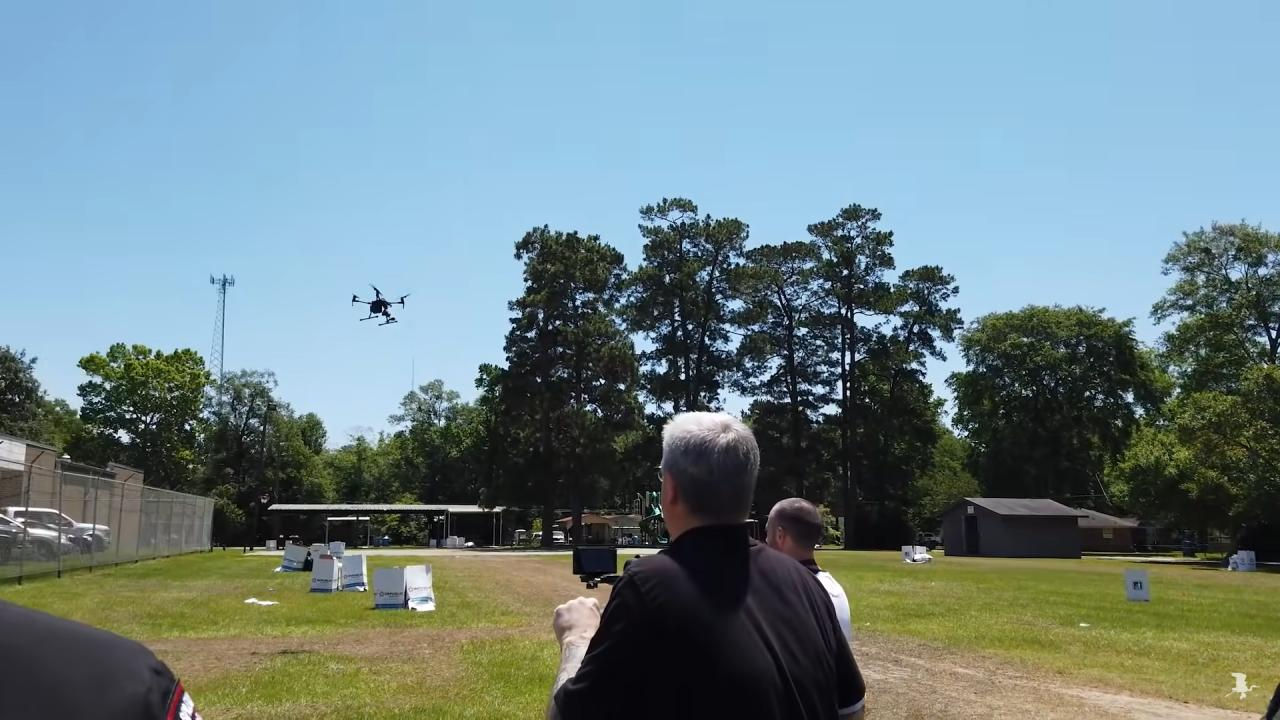Drone: (338, 274, 414, 334)
